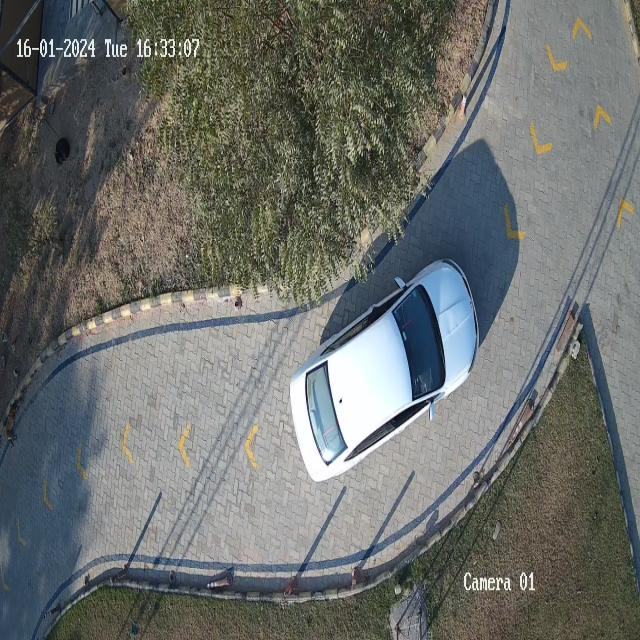car: (289, 256, 480, 487)
